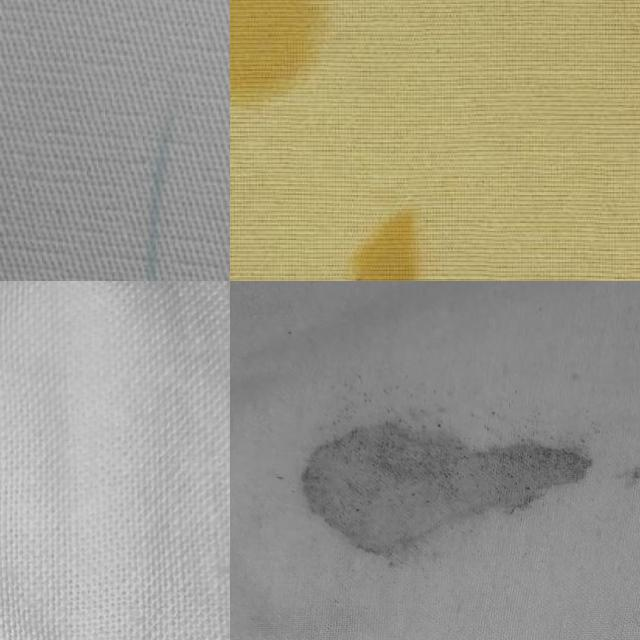Hole: (257, 368, 640, 578), (298, 163, 486, 281), (230, 0, 368, 120)
